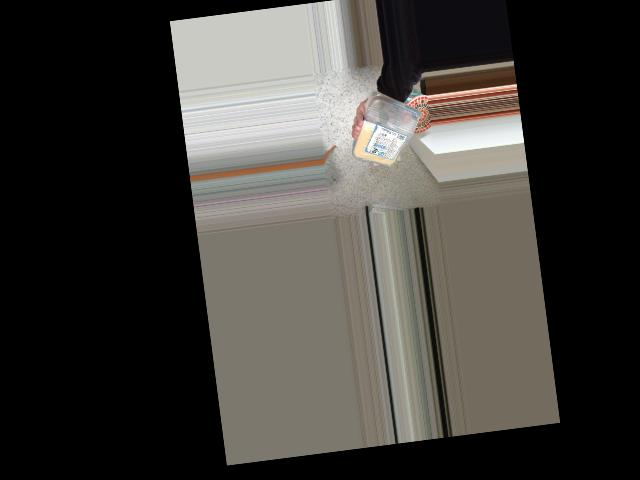cheese: (351, 102, 431, 172)
